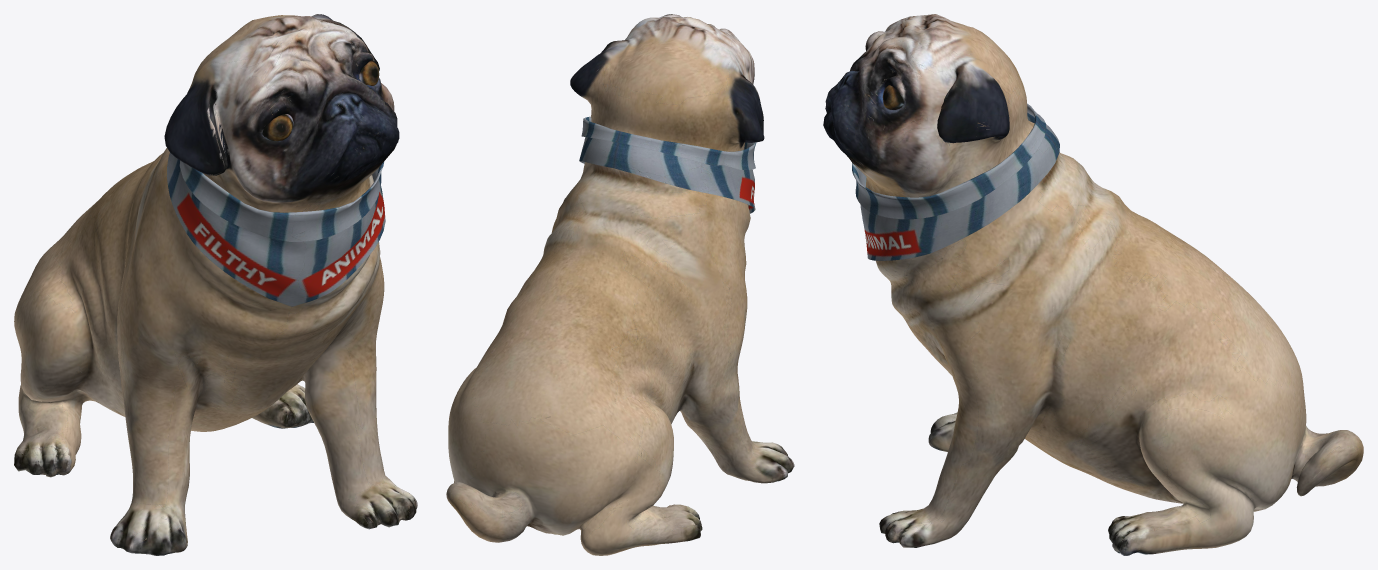
Rendered from sitting-pug.glb.
3 renders of one model, left to right at view 1: azimuth 30°, elevation 25°; view 2: azimuth 150°, elevation 25°; view 3: azimuth 270°, elevation 25°, orthographic. The views are drawn at different scales.
Visible parts, largest first — view 1: Object_2; view 2: Object_2; view 3: Object_2.
Boxes of the visible parts, x1,y1,x2,y2 form: Object_2: (14,14,417,555); Object_2: (446,14,794,555); Object_2: (823,14,1363,555).
Size of the model in its own units: 0.5016 by 0.8287 by 0.8525.
Materials: 1 (1 with a texture image).
